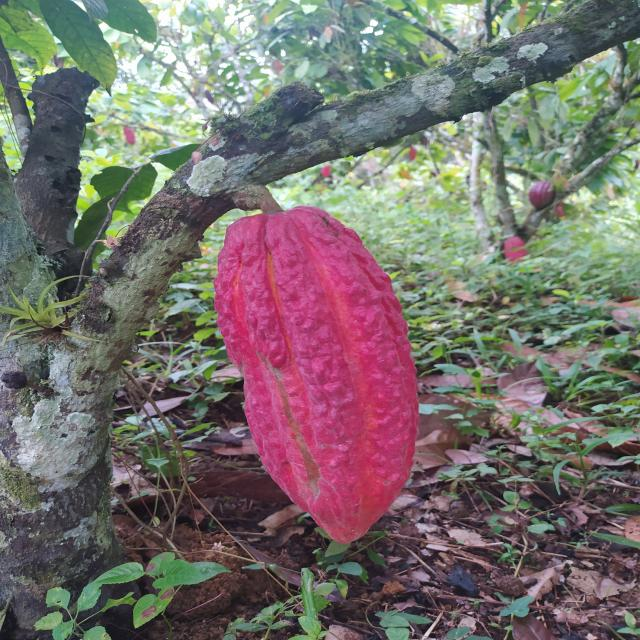Sana: (215, 206, 422, 546), (529, 180, 558, 210), (502, 236, 532, 264)
